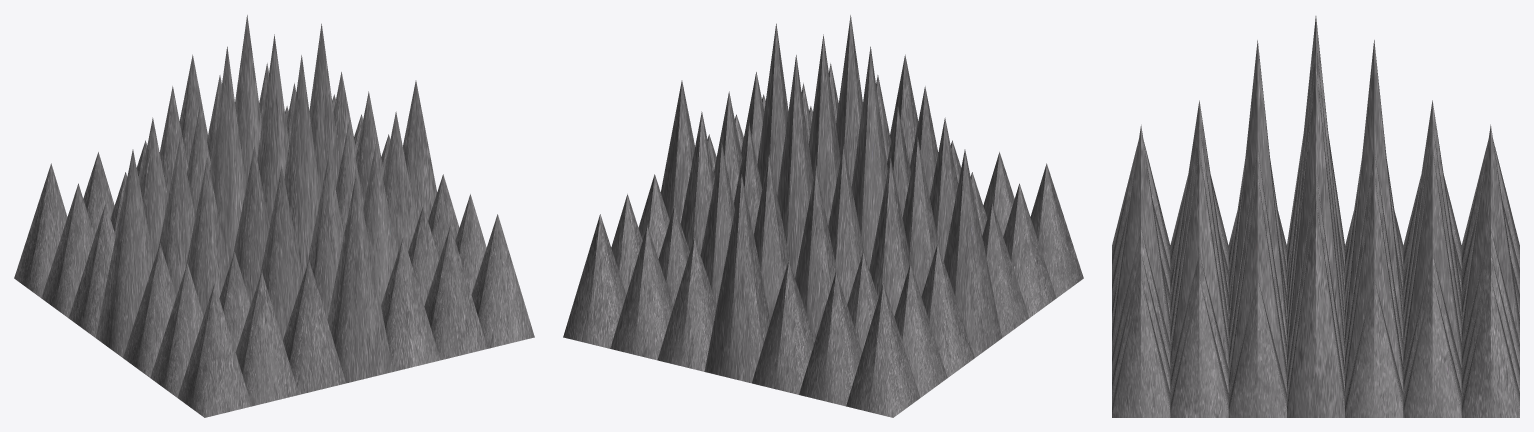
The model's file is spikes.obj.
The picture shows the model from 3 angles, left to right: view 1: azimuth 30°, elevation 25°; view 2: azimuth 150°, elevation 25°; view 3: azimuth 270°, elevation 25°; orthographic projection. The views are drawn at different scales.
Visible parts, largest first — view 1: Plane.001; view 2: Plane.001; view 3: Plane.001.
Boxes of the visible parts, bbox=[...] form: Plane.001: bbox=[14, 15, 534, 417]; Plane.001: bbox=[563, 15, 1083, 417]; Plane.001: bbox=[1112, 16, 1519, 417].
Bounding box in the file's own units: 6.29 × 4.99 × 6.29.
